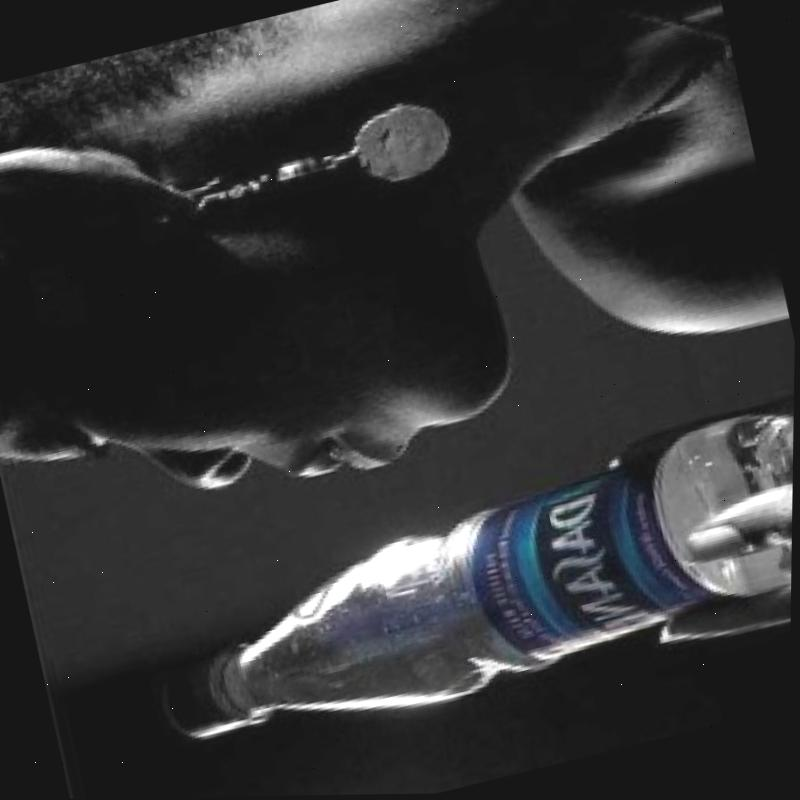botella: (140, 397, 795, 770)
